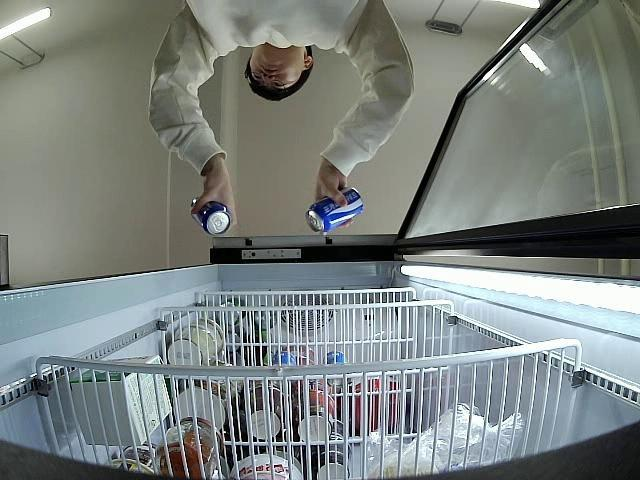13_pocariSweat: (306, 186, 364, 234), (190, 196, 232, 238)
